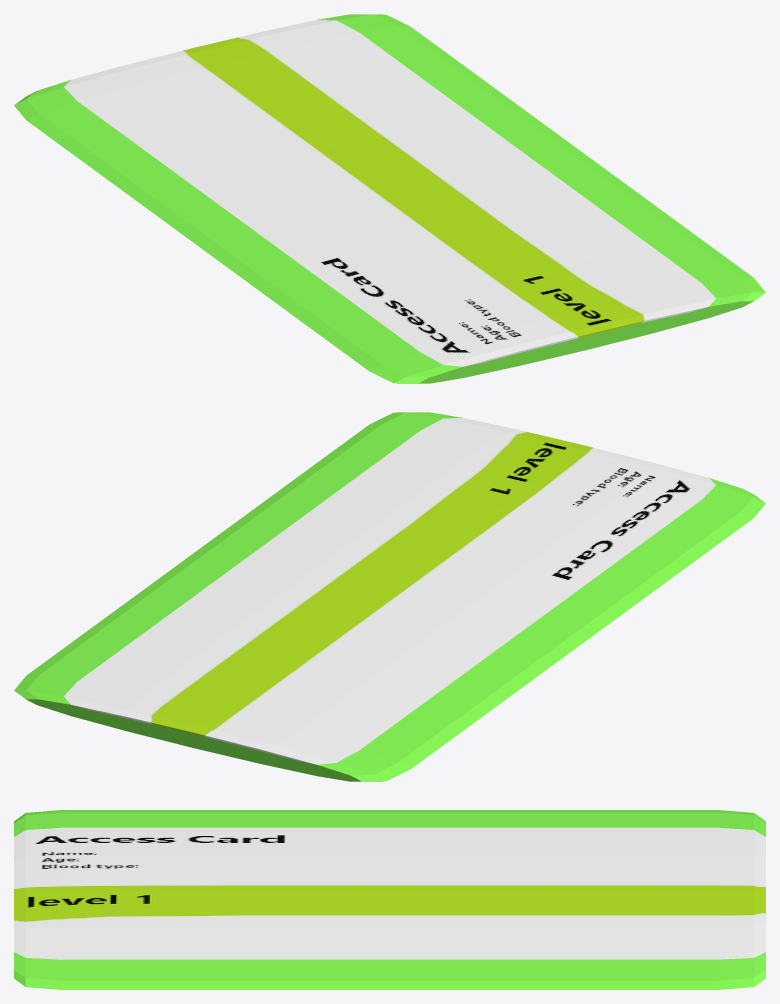
File: access_card.glb
The picture shows the model from 3 angles, top to bottom: view 1: azimuth 30°, elevation 25°; view 2: azimuth 150°, elevation 25°; view 3: azimuth 270°, elevation 25°; orthographic projection. The views are drawn at different scales.
Parts seen in each view (by area): view 1: Object_3, Object_2; view 2: Object_3, Object_2; view 3: Object_3, Object_2.
Boxes of the visible parts, x1=… form: Object_3: x1=64, y1=20, x2=715, y2=366; Object_2: x1=14, y1=14, x2=765, y2=383; Object_3: x1=64, y1=418, x2=715, y2=764; Object_2: x1=14, y1=412, x2=765, y2=781; Object_3: x1=14, y1=827, x2=765, y2=959; Object_2: x1=14, y1=810, x2=765, y2=989.
Size of the model in its own units: 2.07 by 0.0914 by 3.66.
2 materials, 1 textured.
